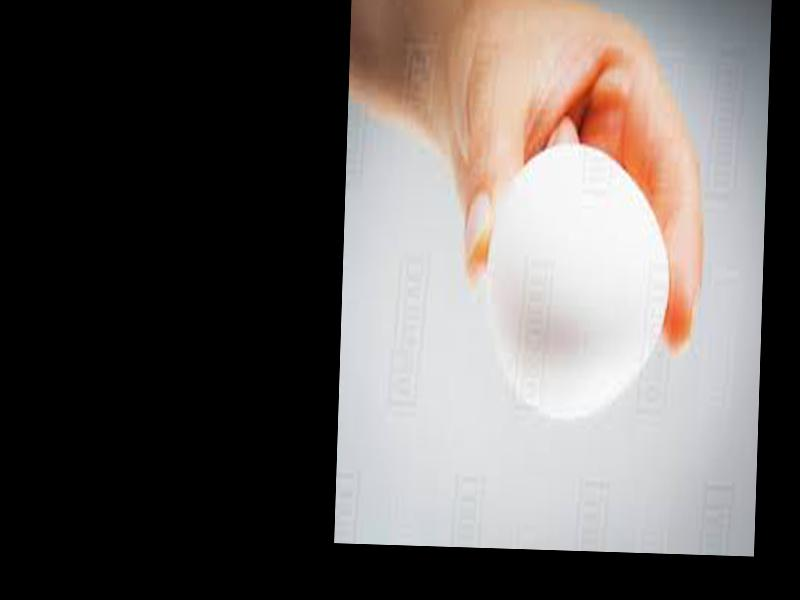Eggs: (483, 152, 674, 418)
